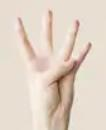right: (14, 8, 93, 116)
